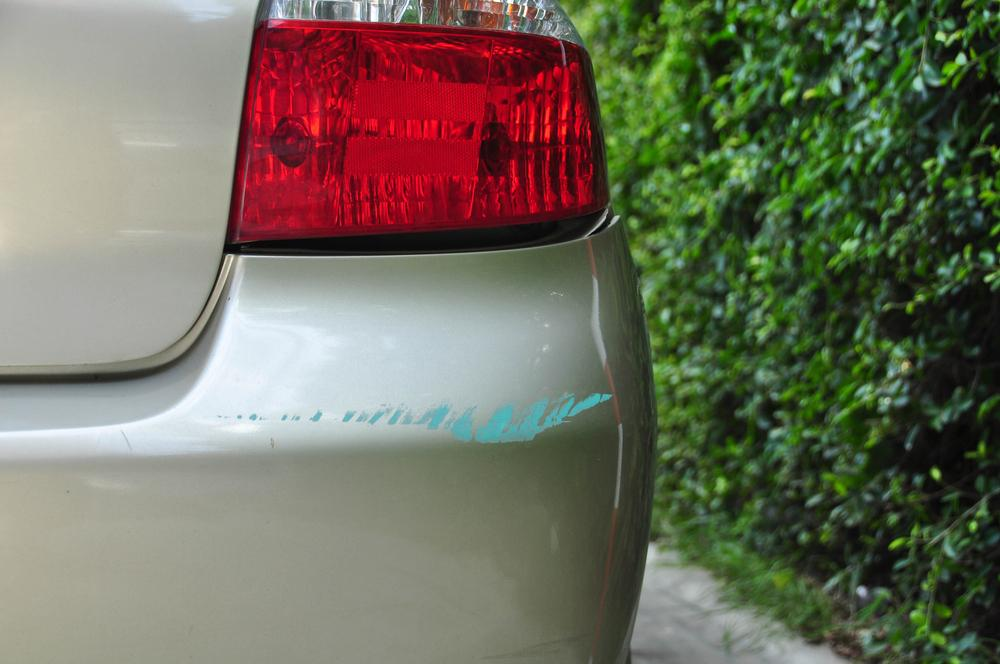scratch: (223, 386, 620, 445)
